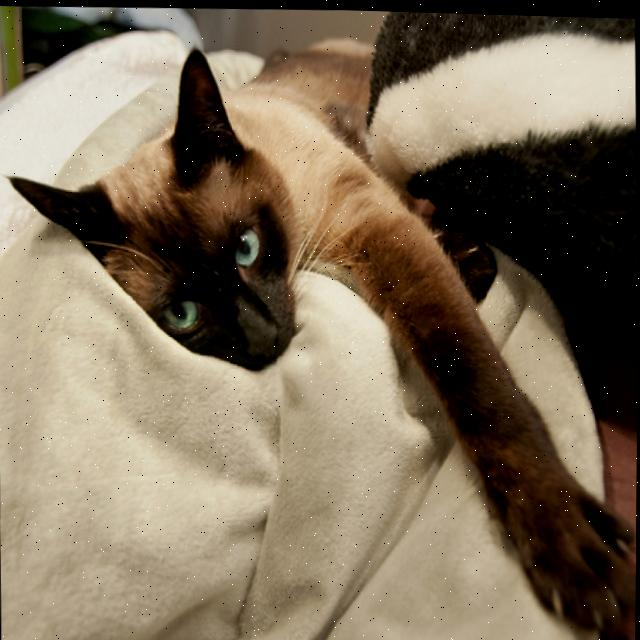Siamese: (0, 16, 640, 640)
